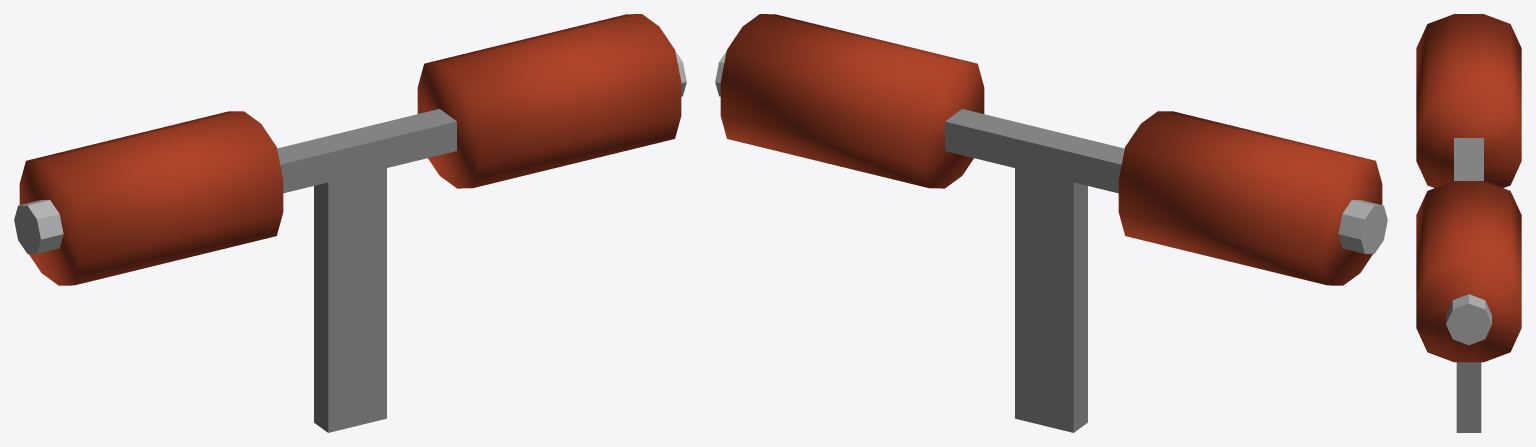
File: E_Machine_Ac_2.fbx
The picture shows the model from 3 angles, left to right: view 1: azimuth 30°, elevation 25°; view 2: azimuth 150°, elevation 25°; view 3: azimuth 270°, elevation 25°; orthographic projection. The views are drawn at different scales.
Parts seen in each view (by area): view 1: E_Machine_Ac_2; view 2: E_Machine_Ac_2; view 3: E_Machine_Ac_2.
Boxes of the visible parts, bbox=[...] form: E_Machine_Ac_2: bbox=[14, 14, 686, 432]; E_Machine_Ac_2: bbox=[715, 14, 1387, 432]; E_Machine_Ac_2: bbox=[1416, 14, 1521, 432].
Bounding box in the file's own units: 69.49 × 33.61 × 11.44.
